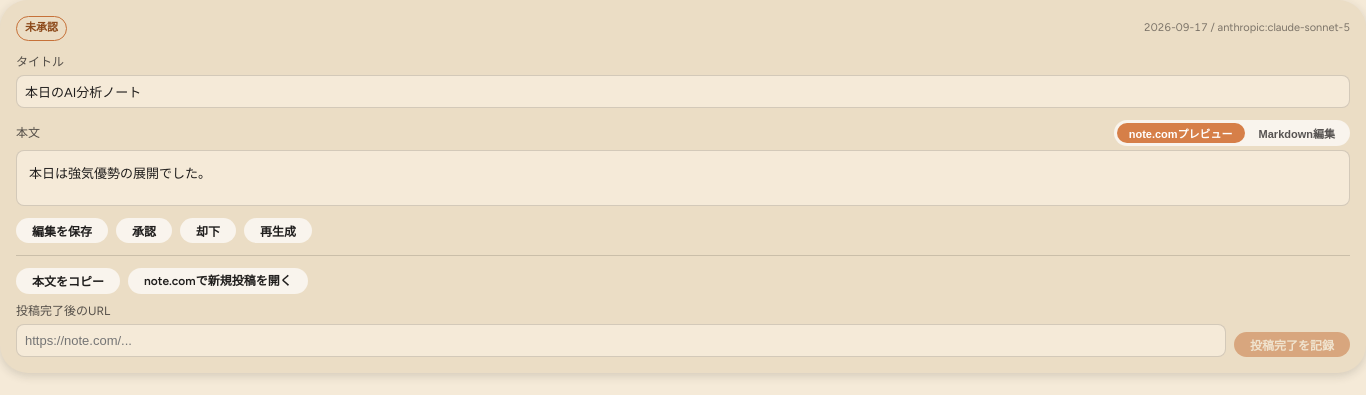
Test: DailyNoteReview › 却下ボタンでステータスが却下になる
Expected: the field showing "本日のAI分析ノート" is shown, [16, 74, 1350, 108]
Step 1. Click the button "却下" → x=208, y=230, box [180, 218, 236, 243]
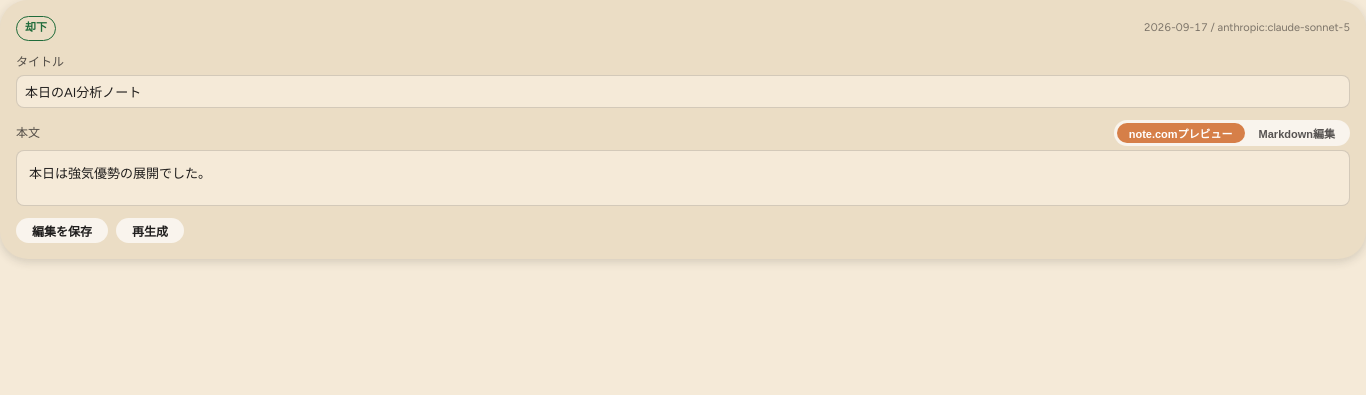
Now the text "却下" is shown, box [16, 16, 56, 40]
